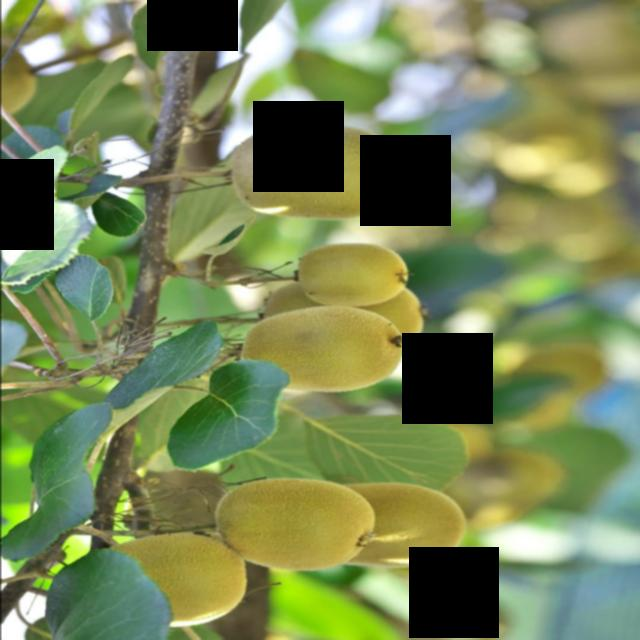kiwi: (225, 122, 420, 224), (207, 473, 381, 577), (234, 302, 416, 400), (97, 528, 253, 633), (334, 476, 471, 573), (255, 277, 438, 347), (292, 241, 416, 311)
